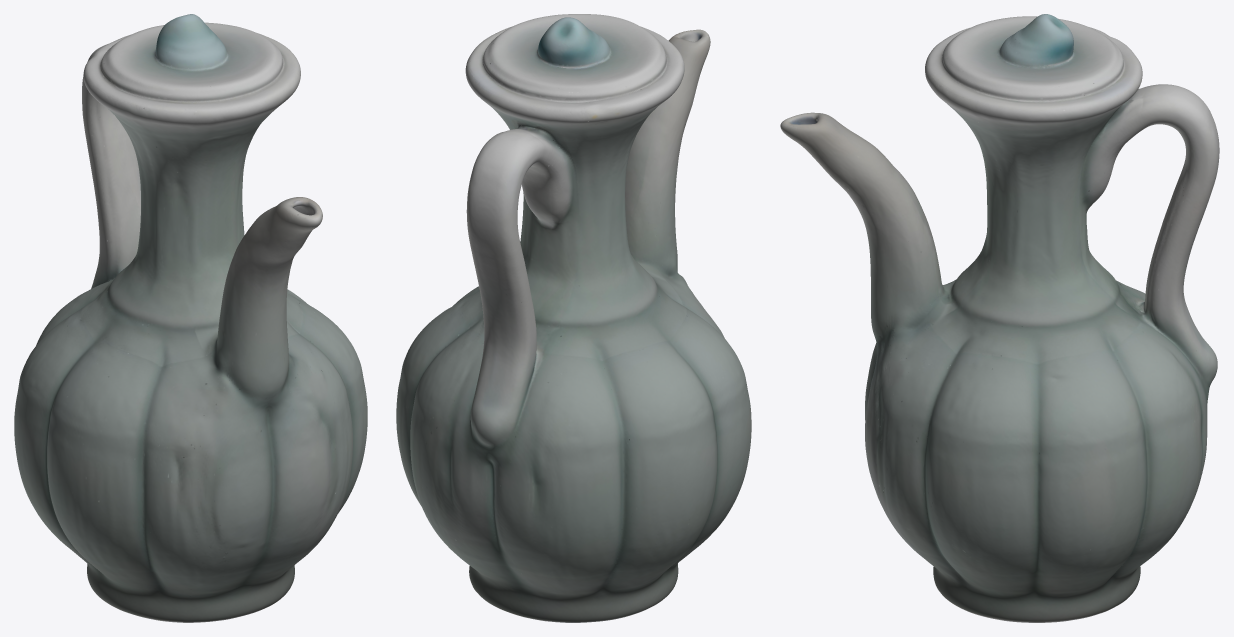
Rendered from tripo_convert_2dad518d-8104-44c7-bae7-56586e4b1d5b.fbx.
The picture shows the model from 3 angles, left to right: view 1: azimuth 30°, elevation 25°; view 2: azimuth 150°, elevation 25°; view 3: azimuth 270°, elevation 25°; orthographic projection.
Parts seen in each view (by area): view 1: tripo_node_2dad518d; view 2: tripo_node_2dad518d; view 3: tripo_node_2dad518d.
Part boxes in pixels (x1,y1,x2,y2): tripo_node_2dad518d: [14, 14, 367, 622]; tripo_node_2dad518d: [396, 14, 751, 622]; tripo_node_2dad518d: [780, 14, 1219, 622].
Size of the model in its own units: 52.59 by 94.86 by 66.65.
Materials: 1 (1 with a texture image).
